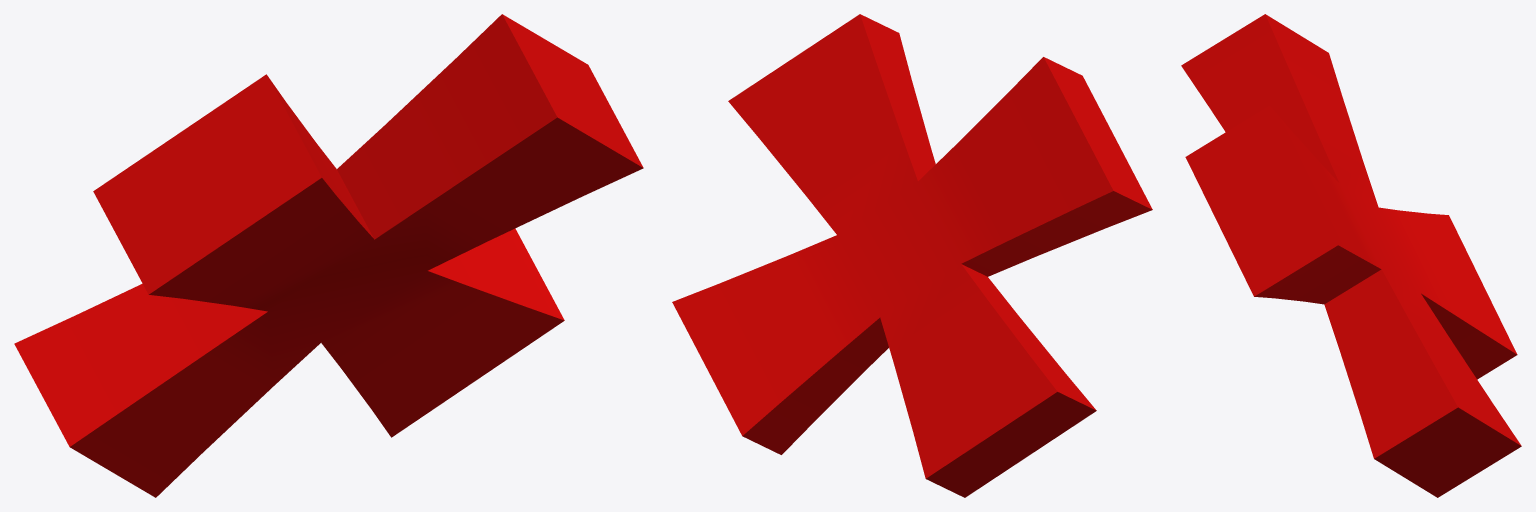
Rendered from Cross.fbx.
3 renders of one model, left to right at view 1: azimuth 30°, elevation 25°; view 2: azimuth 150°, elevation 25°; view 3: azimuth 270°, elevation 25°, orthographic. The views are drawn at different scales.
Parts seen in each view (by area): view 1: Cross; view 2: Cross; view 3: Cross.
Part boxes in pixels (<box>): Cross: <box>14,14,643,497</box>; Cross: <box>672,14,1152,497</box>; Cross: <box>1181,14,1521,497</box>.
Size of the model in its own units: 0.4434 by 0.3293 by 0.42.
